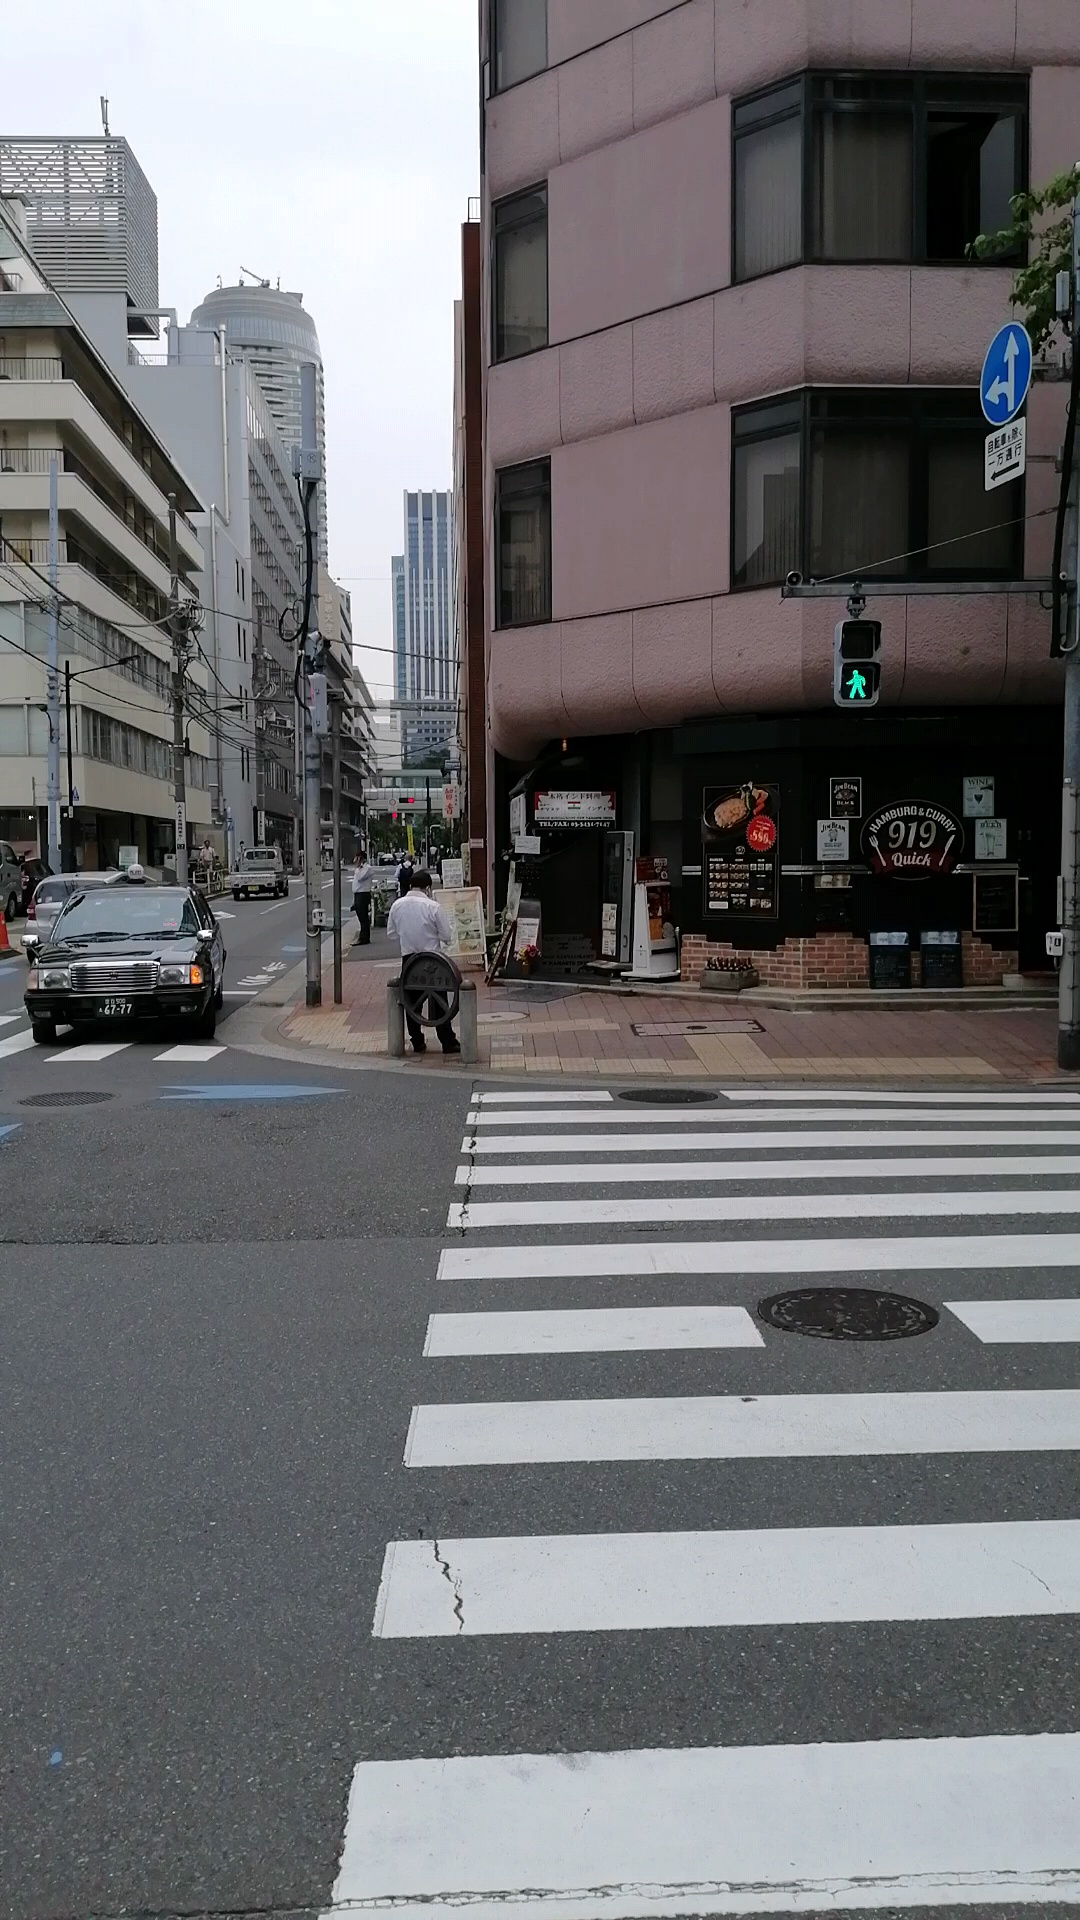green: (833, 618, 877, 707)
